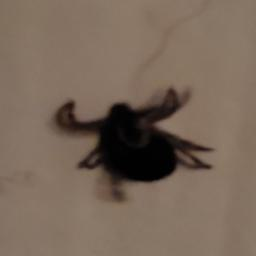Dermacentor variabilis: (53, 87, 214, 204)
